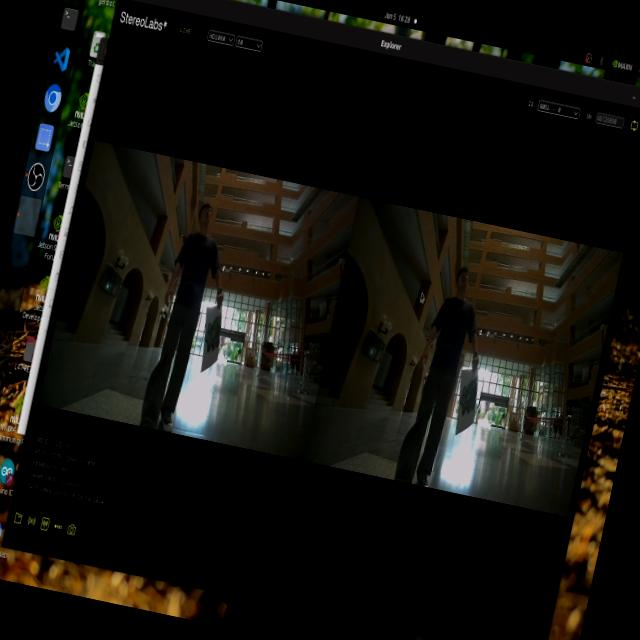green: (195, 310, 228, 367), (454, 369, 484, 429)
